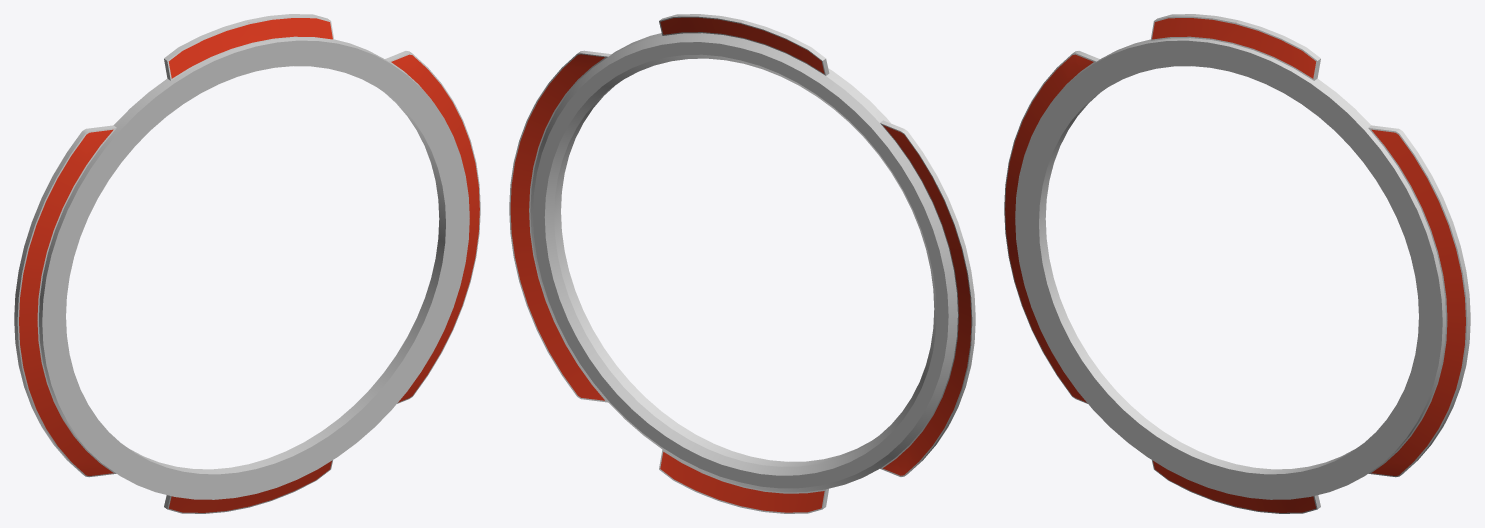
Rendered from finishpoint.FBX.
3 renders of one model, left to right at view 1: azimuth 30°, elevation 25°; view 2: azimuth 150°, elevation 25°; view 3: azimuth 330°, elevation 25°, orthographic.
Parts seen in each view (by area): view 1: Finish; view 2: Finish; view 3: Finish.
Boxes of the visible parts, box(x1,y1,x2,y2) form: Finish: box(14, 14, 480, 513); Finish: box(509, 14, 975, 513); Finish: box(1004, 14, 1470, 513).
Size of the model in its own units: 19500 by 19498 by 750.
